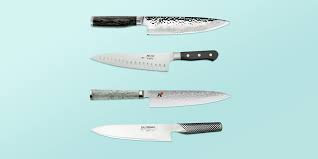knife: (87, 83, 232, 113), (85, 47, 229, 74), (87, 12, 233, 35), (87, 120, 225, 143)
